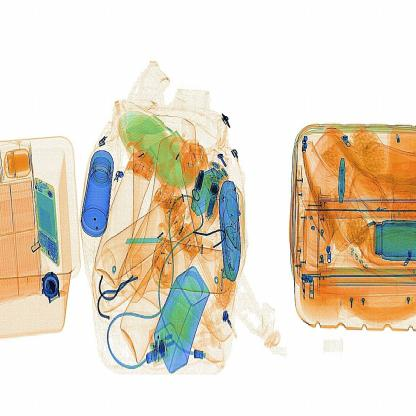pliers: (124, 227, 174, 253)
